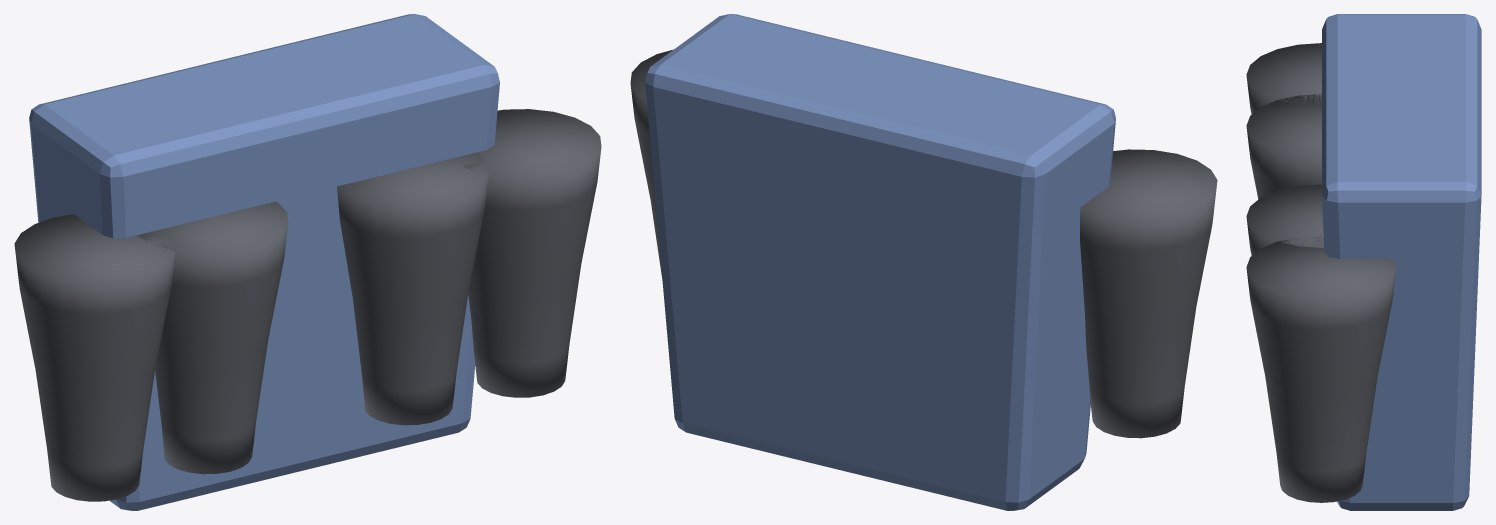
Rendered from back_fast.glb.
3 renders of one model, left to right at view 1: azimuth 30°, elevation 25°; view 2: azimuth 150°, elevation 25°; view 3: azimuth 270°, elevation 25°, orthographic. The views are drawn at different scales.
Parts seen in each view (by area): view 1: pack, thruster.001, thruster.002, thruster.003, thruster; view 2: pack, thruster.001, thruster.003; view 3: pack, thruster.003, thruster, thruster.002, thruster.001.
Part boxes in pixels (x1,y1,x2,y2): pack: (29, 14, 499, 510); thruster.001: (14, 214, 175, 501); thruster.002: (337, 152, 488, 425); thruster.003: (462, 109, 601, 397); thruster: (137, 201, 288, 474); pack: (645, 14, 1115, 510); thruster.001: (1080, 149, 1217, 438); thruster.003: (630, 49, 673, 278); pack: (1322, 14, 1481, 510); thruster.003: (1246, 235, 1396, 502); thruster: (1246, 94, 1321, 199); thruster.002: (1246, 184, 1323, 255); thruster.001: (1246, 43, 1321, 113).
Size of the model in its own units: 3.84 by 2.38 by 1.49.
